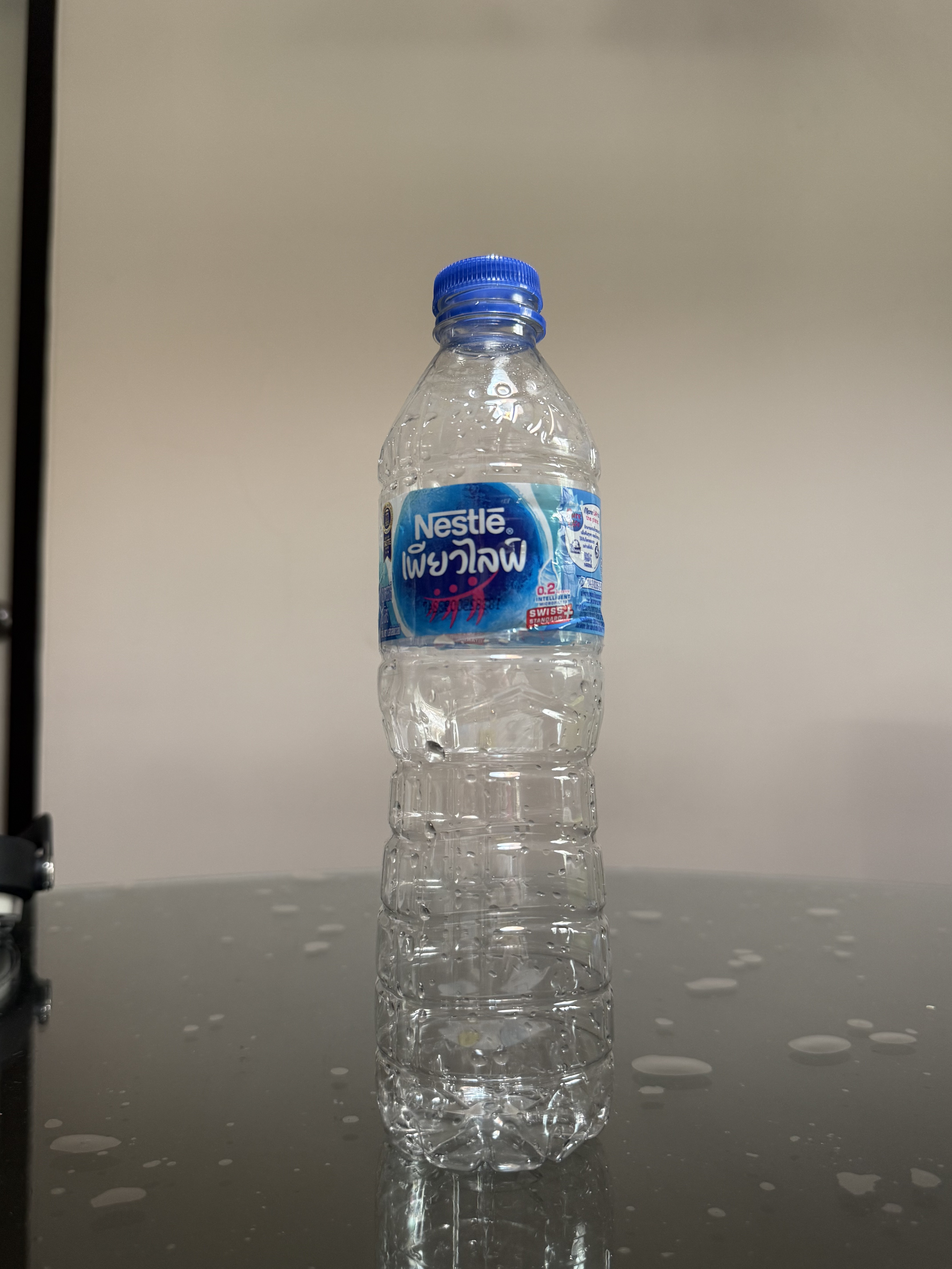half_cap: (429, 251, 547, 344)
